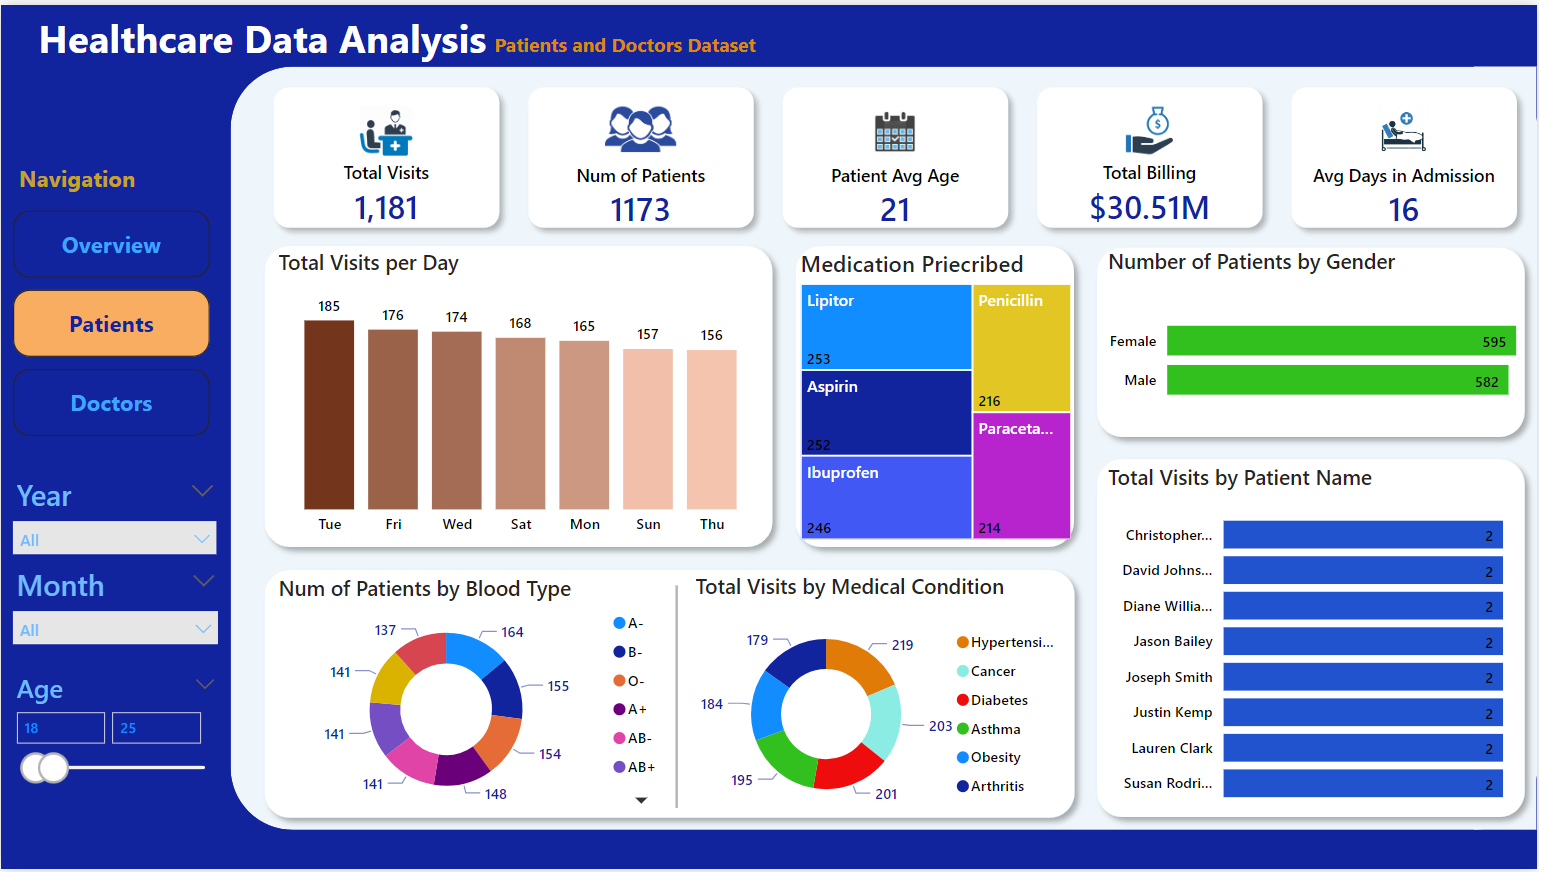

This screenshot's page, from the dashboard's own definition file:
{"tool":"powerbi","page":{"name":"Patients","canvas":[1280,720],"ordinal":1},"visuals":[{"type":"shape","box":[190.9,50.9,1089.1,636.2],"z":0},{"type":"shape","box":[1227.8,50.9,52.2,636.2],"z":1000},{"type":"cardVisual","fields":{"Data":["healthcare_dataset.Total Visits","healthcare_dataset.Num of Patients","healthcare_dataset.Patient avg age","healthcare_dataset.Total billing","healthcare_dataset.Avg days in Admission"]},"box":[210,51.1,1070,151.1],"z":2000},{"type":"shape","box":[210,191.2,442.5,270],"z":3000},{"type":"shape","box":[210,461.4,694.3,225.7],"z":4000},{"type":"shape","box":[904.1,191.9,375.7,177],"z":5000},{"type":"shape","box":[904.1,368.9,375.7,317.6],"z":6000},{"type":"barChart","title":"Number of Patients by Gender","fields":{"Category":["healthcare_dataset.Gender"],"Y":["healthcare_dataset.Num of Patients"]},"box":[917.8,201.1,352.2,158.9],"z":7000},{"type":"donutChart","fields":{"Category":["healthcare_dataset.Blood Type"],"Y":["healthcare_dataset.Num of Patients"]},"box":[226.5,473.3,334.6,202.3],"z":8000},{"type":"donutChart","fields":{"Y":["healthcare_dataset.Total Visits"],"Category":["healthcare_dataset.Medical Condition"]},"box":[574.3,472.9,320,212.9],"z":9000},{"type":"clusteredBarChart","title":"Total Visits by Patient Name","fields":{"Category":["healthcare_dataset.Name"],"Y":["healthcare_dataset.Total Visits"]},"box":[917.6,381.1,352.7,295.9],"z":10000},{"type":"shape","box":[652.5,191.2,251.2,270],"z":11000},{"type":"treemap","title":"Medication Priecribed","fields":{"Group":["healthcare_dataset.Medication"],"Values":["healthcare_dataset.Total Visits"]},"box":[661.7,202.5,235,247.5],"z":12000},{"type":"clusteredColumnChart","title":"Total Visits per Day","fields":{"Category":["healthcare_dataset.Day"],"Y":["healthcare_dataset.Total Visits"]},"box":[226.2,202.5,413.8,247.5],"z":13000},{"type":"shape","box":[542.2,483.3,41.1,185.6],"z":14000},{"type":"textbox","box":[26.7,0,519.1,59.8],"z":15000},{"type":"textbox","box":[405.6,16.2,278.8,34.4],"z":16000},{"type":"textbox","box":[10.2,126,137.4,38.2],"z":17000},{"type":"pageNavigator","box":[10.2,171.8,164.1,188.3],"z":18000},{"type":"slicer","fields":{"Values":["healthcare_dataset.Year"]},"box":[0,386.8,189.6,106.9],"z":19000},{"type":"slicer","fields":{"Values":["healthcare_dataset.Age"]},"box":[0,548.2,190.9,171.8],"z":20000},{"type":"slicer","fields":{"Values":["healthcare_dataset.Admission(month)"]},"box":[0,461.9,190.9,86.5],"z":21000}]}

Visuals, with their boxes in screenshot pixels (x1, y1, x2, y2), scaled from the page's 1280x720 canvas onto the 1541x872 screenshot:
shape: detection(230, 62, 1540, 832)
shape: detection(1478, 62, 1540, 832)
cardVisual - healthcare_dataset.Total Visits x healthcare_dataset.Num of Patients: detection(253, 62, 1540, 245)
shape: detection(253, 232, 786, 559)
shape: detection(253, 559, 1089, 832)
shape: detection(1088, 232, 1540, 447)
shape: detection(1088, 447, 1540, 831)
"Number of Patients by Gender" barChart: detection(1105, 244, 1529, 436)
donutChart - healthcare_dataset.Blood Type x healthcare_dataset.Num of Patients: detection(273, 573, 676, 818)
donutChart - healthcare_dataset.Total Visits x healthcare_dataset.Medical Condition: detection(691, 573, 1077, 831)
"Total Visits by Patient Name" clusteredBarChart: detection(1105, 462, 1529, 820)
shape: detection(786, 232, 1088, 559)
"Medication Priecribed" treemap: detection(797, 245, 1080, 545)
"Total Visits per Day" clusteredColumnChart: detection(272, 245, 770, 545)
shape: detection(653, 585, 702, 810)
textbox: detection(32, 0, 657, 72)
textbox: detection(488, 20, 824, 61)
textbox: detection(12, 153, 178, 199)
pageNavigator: detection(12, 208, 210, 436)
slicer - healthcare_dataset.Year: detection(0, 468, 228, 598)
slicer - healthcare_dataset.Age: detection(0, 664, 230, 871)
slicer - healthcare_dataset.Admission(month): detection(0, 559, 230, 664)
